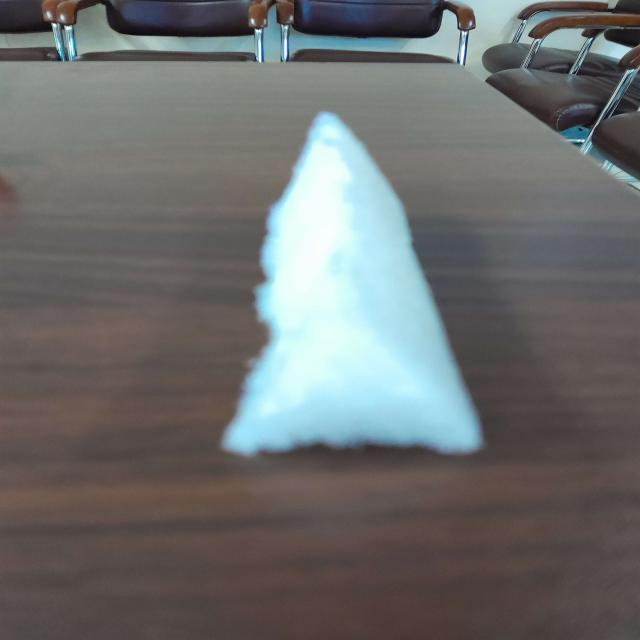engine: (226, 90, 484, 463)
